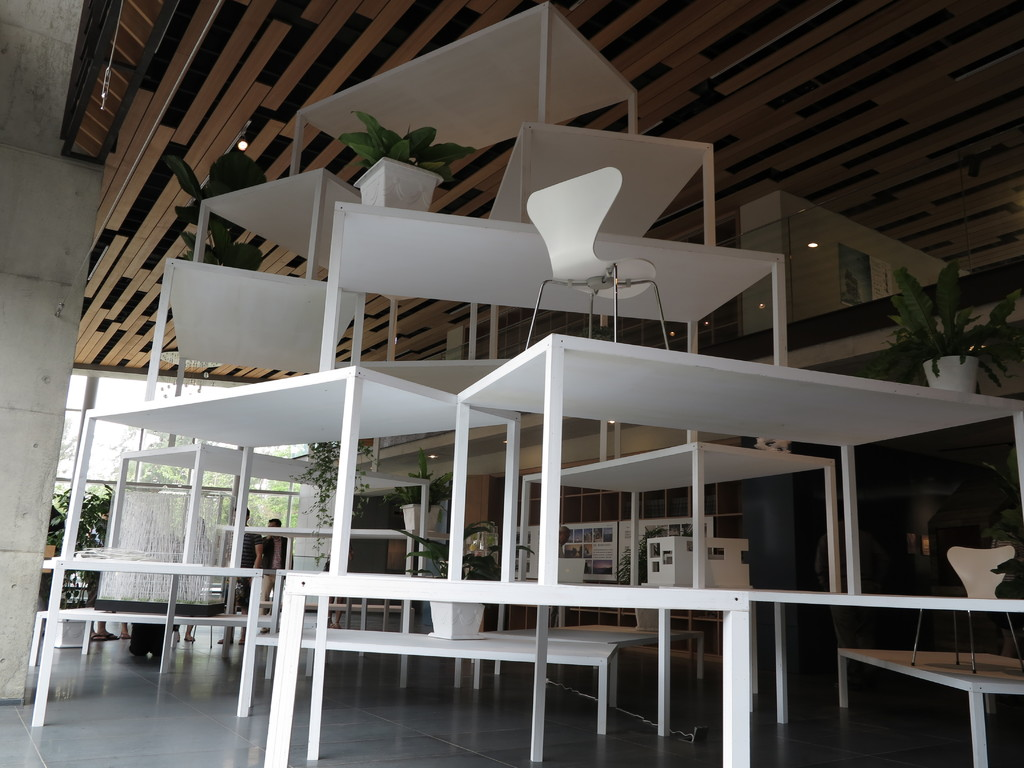Window: (50, 373, 307, 532)
